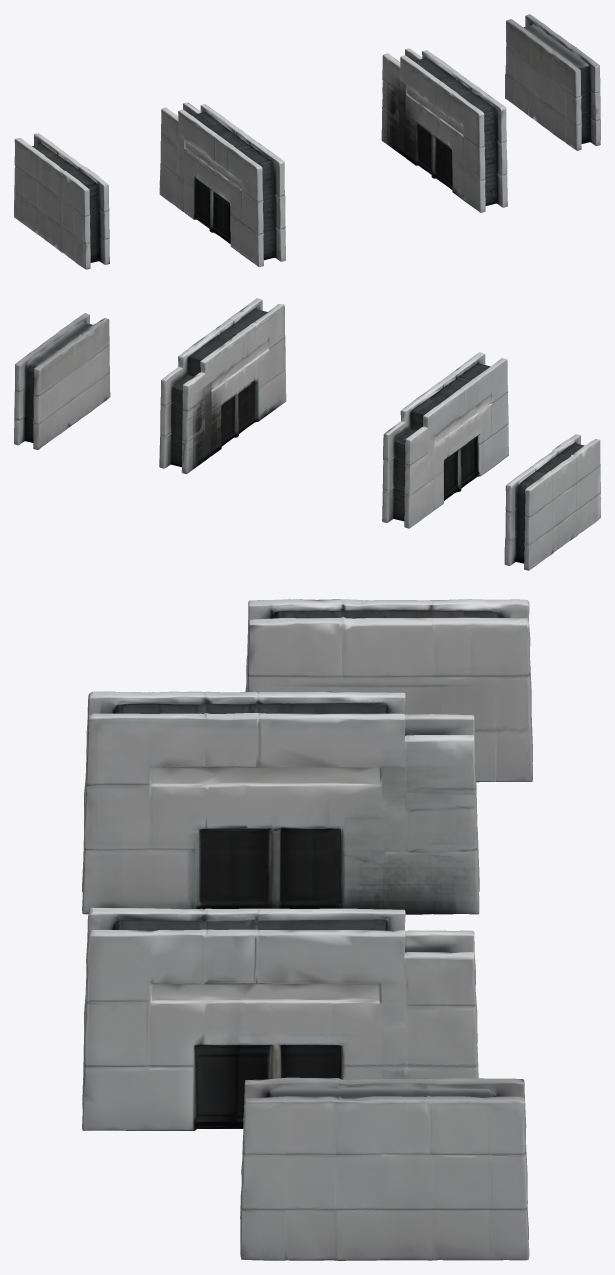
Rendered from yonsei-sinchon-front-gate.glb.
3 views of the same model, one above another, from view 1: azimuth 30°, elevation 25°; view 2: azimuth 150°, elevation 25°; view 3: azimuth 270°, elevation 25° (orthographic). The views are drawn at different scales.
Visible parts, largest first — view 1: tripo_node_0c17bba3-806d-4134-89ae-2fdd4e15904e; view 2: tripo_node_0c17bba3-806d-4134-89ae-2fdd4e15904e; view 3: tripo_node_0c17bba3-806d-4134-89ae-2fdd4e15904e.
Part boxes in pixels (left/top/right/bottom): tripo_node_0c17bba3-806d-4134-89ae-2fdd4e15904e: left=14, top=14, right=600, bottom=269; tripo_node_0c17bba3-806d-4134-89ae-2fdd4e15904e: left=14, top=298, right=600, bottom=570; tripo_node_0c17bba3-806d-4134-89ae-2fdd4e15904e: left=82, top=599, right=532, bottom=1260.
Bounding box in the file's own units: 1 × 0.1833 × 0.3788.
Materials: 1 (1 with a texture image).
